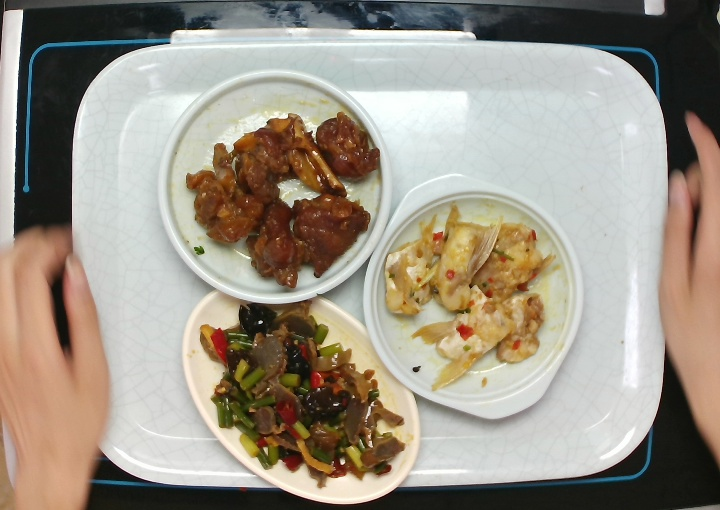JYsf-Shuang_Er_Pan: (362, 170, 583, 421)
JYsf-Tuo_Yuan_Wan: (179, 282, 422, 506)
JYsf-Xiao_Yuan_Pan: (155, 69, 395, 305)
